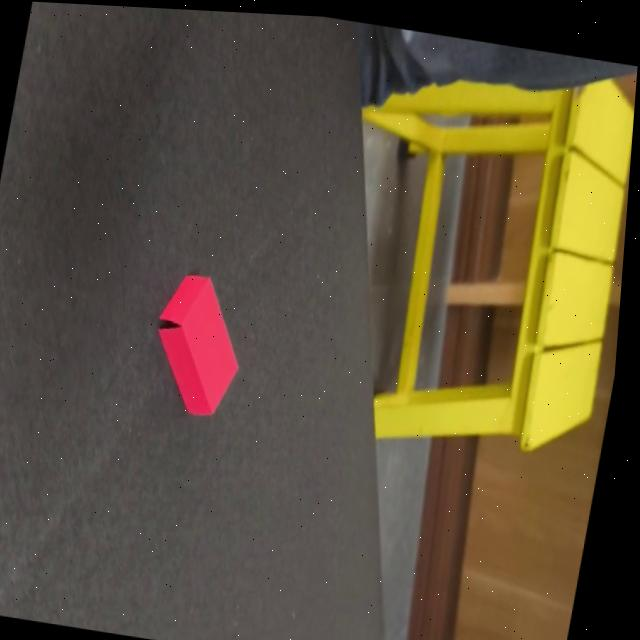red block: (142, 265, 257, 421)
